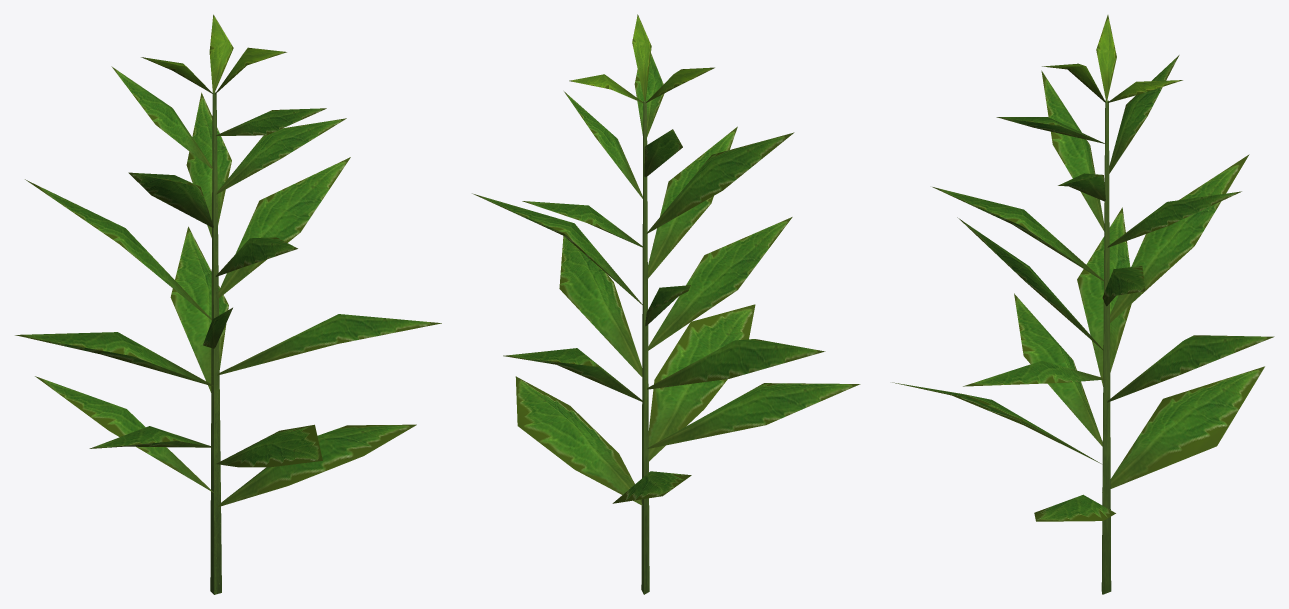
File: Horseweed_m.FBX
3 views of the same model, side by side, from view 1: azimuth 30°, elevation 25°; view 2: azimuth 150°, elevation 25°; view 3: azimuth 270°, elevation 25° (orthographic).
Visible parts, largest first — view 1: Horseweed_B_003; view 2: Horseweed_B_003; view 3: Horseweed_B_003.
Part boxes in pixels (x1,y1,x2,y2): Horseweed_B_003: (15, 14, 441, 594); Horseweed_B_003: (472, 14, 860, 594); Horseweed_B_003: (892, 15, 1274, 594).
Bounding box in the file's own units: 26.69 × 39.39 × 25.25.
